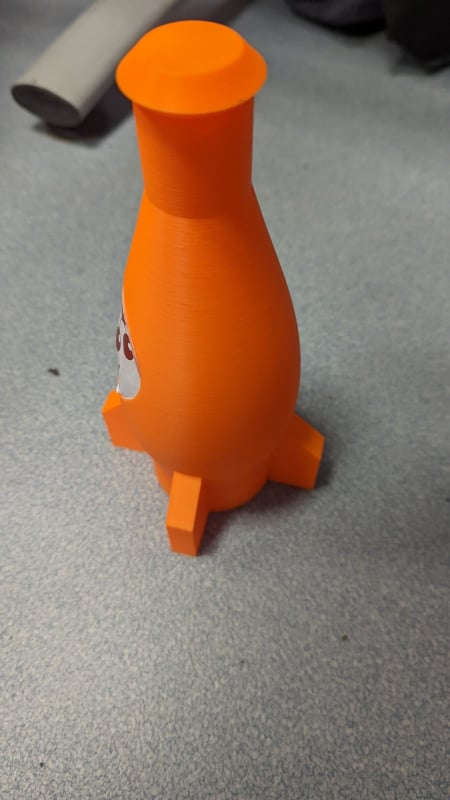bottle: (85, 14, 336, 566)
